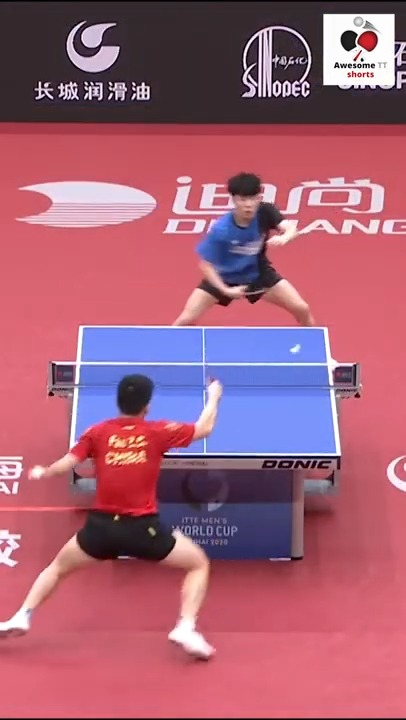Ball: (289, 343, 304, 357)
